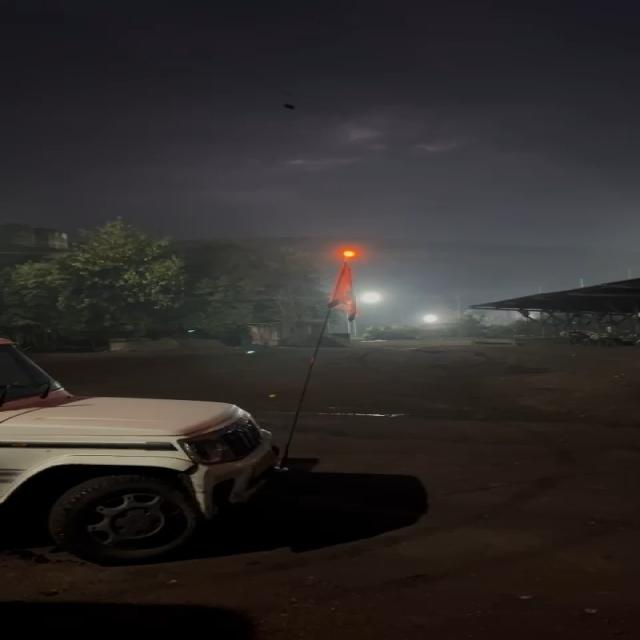light_vehicle: (0, 339, 287, 577)
